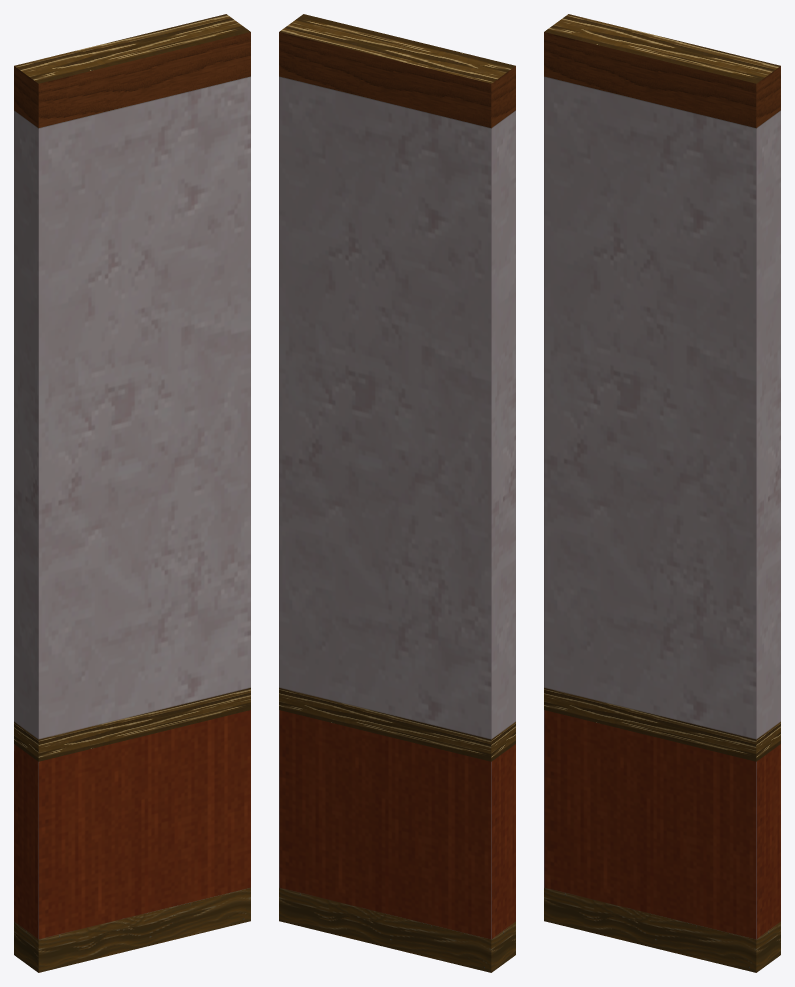
Rendered from SM_Wall_1m_Stone.fbx.
The picture shows the model from 3 angles, left to right: view 1: azimuth 30°, elevation 25°; view 2: azimuth 150°, elevation 25°; view 3: azimuth 330°, elevation 25°; orthographic projection.
Visible parts, largest first — view 1: SM_Wall_1m_Stone; view 2: SM_Wall_1m_Stone; view 3: SM_Wall_1m_Stone.
Boxes of the visible parts, x1,y1,x2,y2 form: SM_Wall_1m_Stone: (14, 14, 250, 972); SM_Wall_1m_Stone: (279, 14, 515, 972); SM_Wall_1m_Stone: (544, 14, 780, 972).
Size of the model in its own units: 1 by 4 by 0.2.
